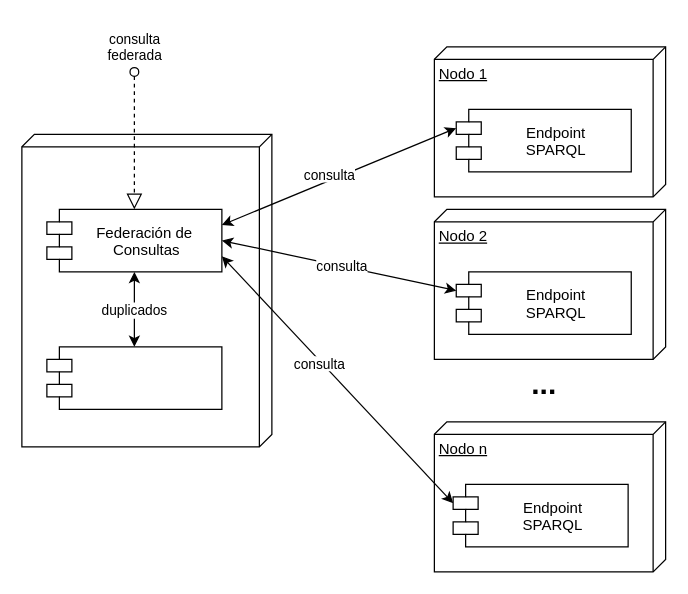
Image size: 688x594. Some labels were removed from this diagram. The shapes that lost their labels are listed below. From the top down, each one's box as (x1, y1, x2, y2) in pixels, then its label:
(21, 133, 272, 447): Nodo Maestro
(46, 346, 222, 409): Libería de Descubrimiento
